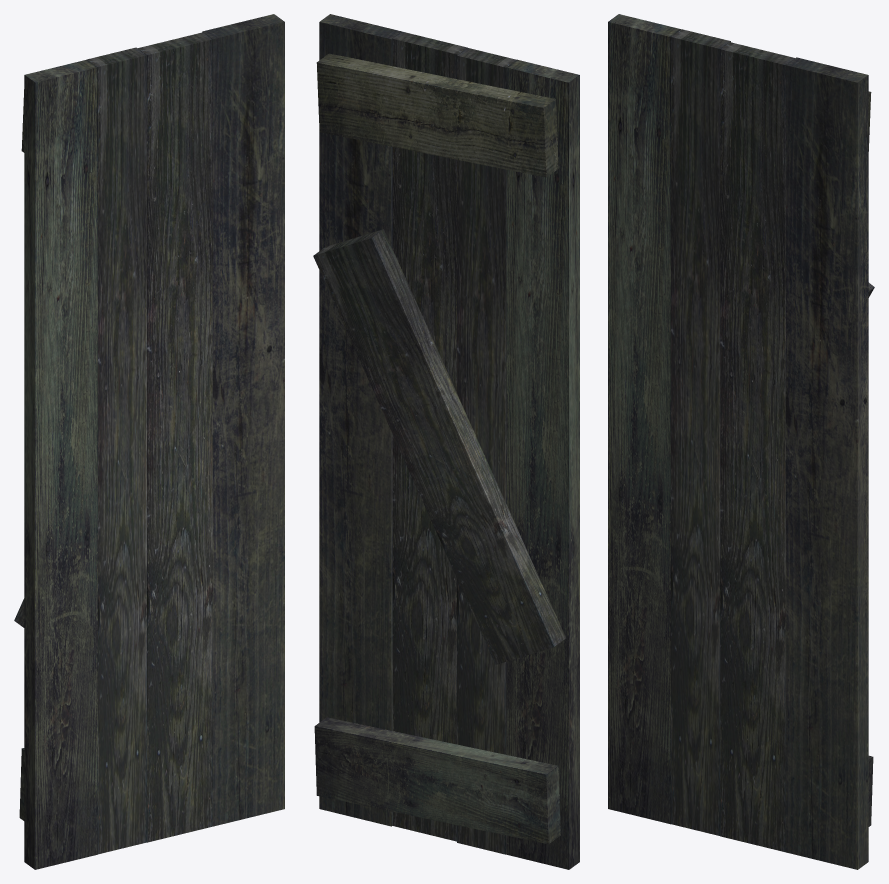
Rendered from OldSmallWoodenWall 1m.fbx.
3 renders of one model, left to right at view 1: azimuth 30°, elevation 25°; view 2: azimuth 150°, elevation 25°; view 3: azimuth 330°, elevation 25°, orthographic.
Parts seen in each view (by area): view 1: OldSmallWoodenWall_1m; view 2: OldSmallWoodenWall_1m; view 3: OldSmallWoodenWall_1m.
Boxes of the visible parts, box(x1,y1,x2,y2) form: OldSmallWoodenWall_1m: box(14, 14, 284, 869); OldSmallWoodenWall_1m: box(313, 14, 579, 869); OldSmallWoodenWall_1m: box(608, 14, 874, 869).
Size of the model in its own units: 1 by 3.01 by 0.1628.
